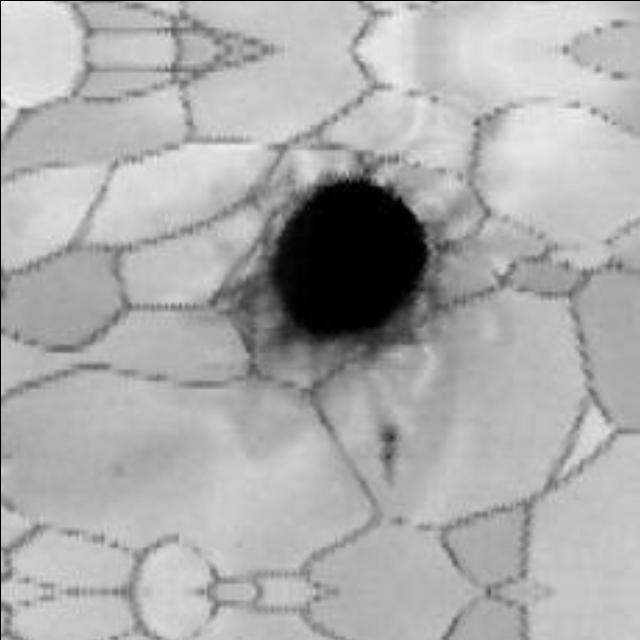good_void: (229, 154, 457, 369), (377, 432, 398, 465)
